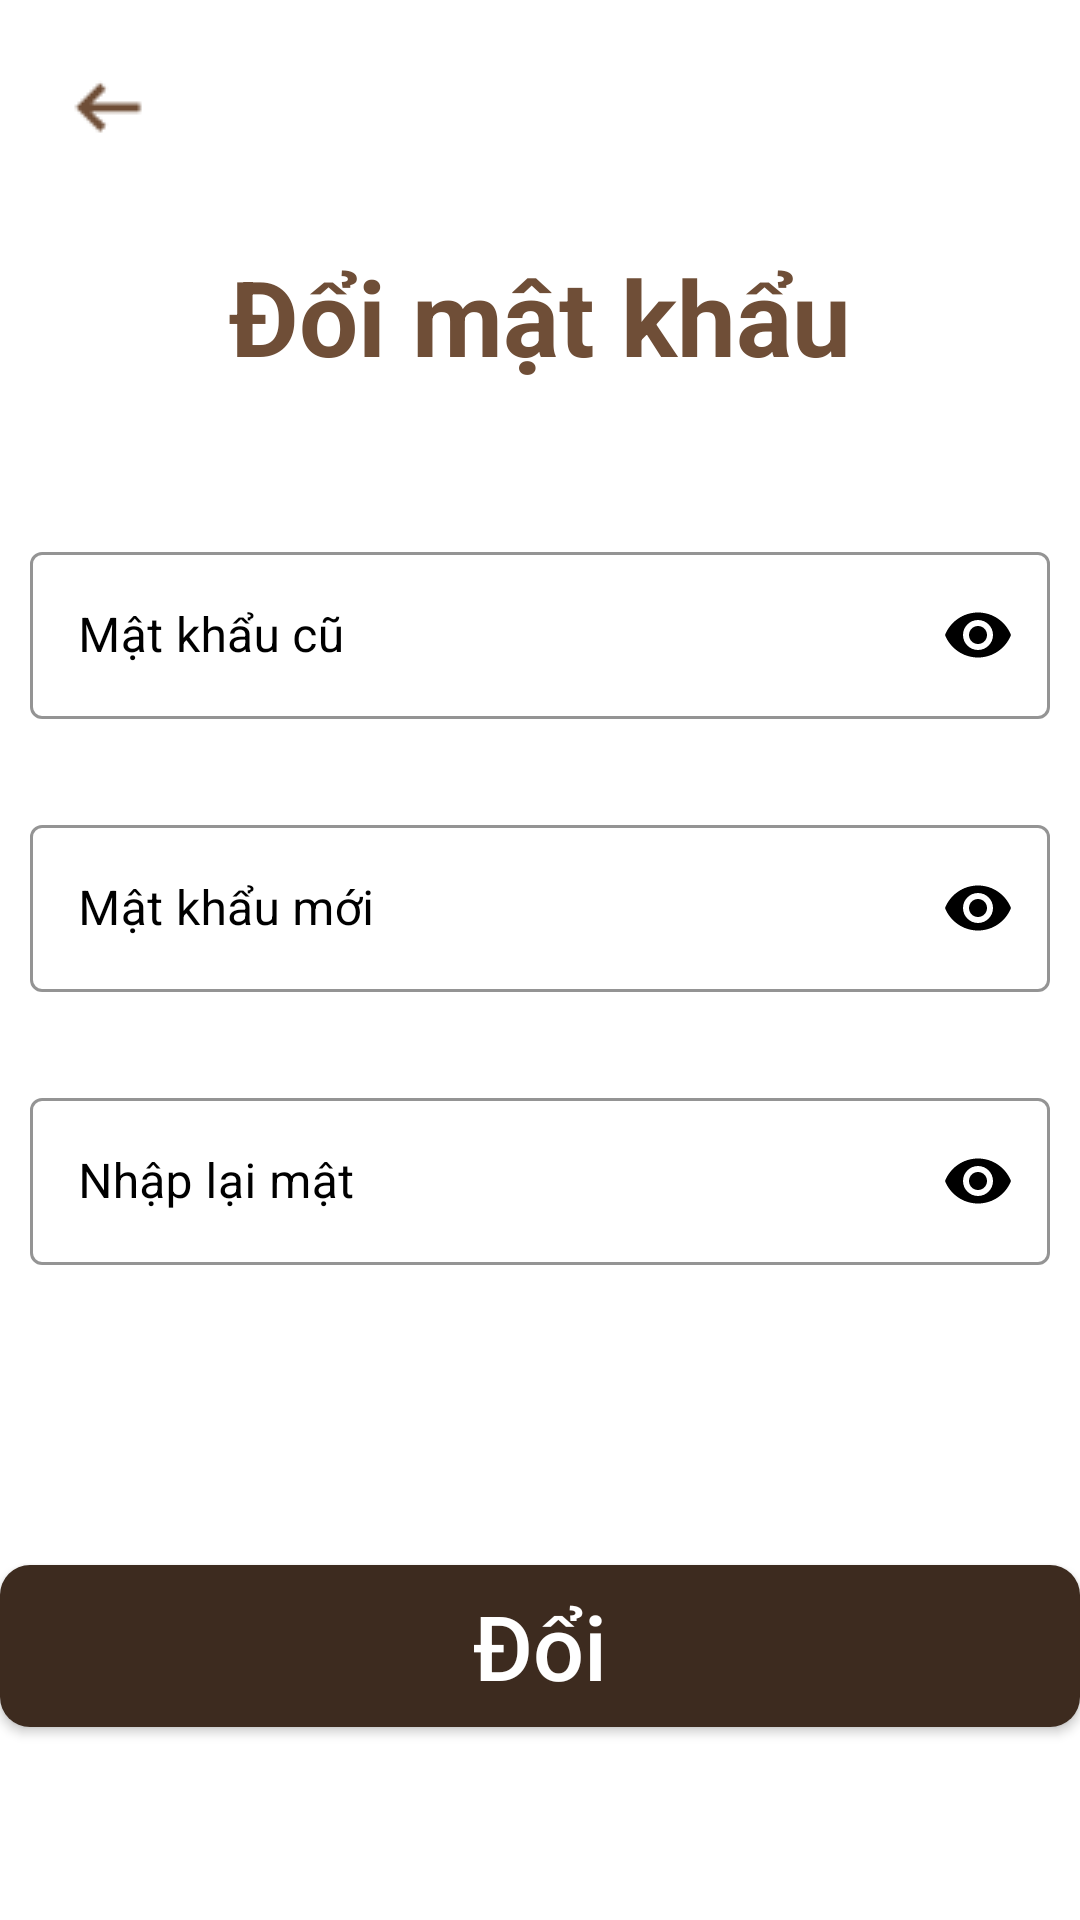

Where icons sit on this 1080px x 1920px app screen, as {"left": x1, "top": y1, "right": x2, "bottom": y2}:
arrow left: {"left": 75, "top": 83, "right": 142, "bottom": 133}
